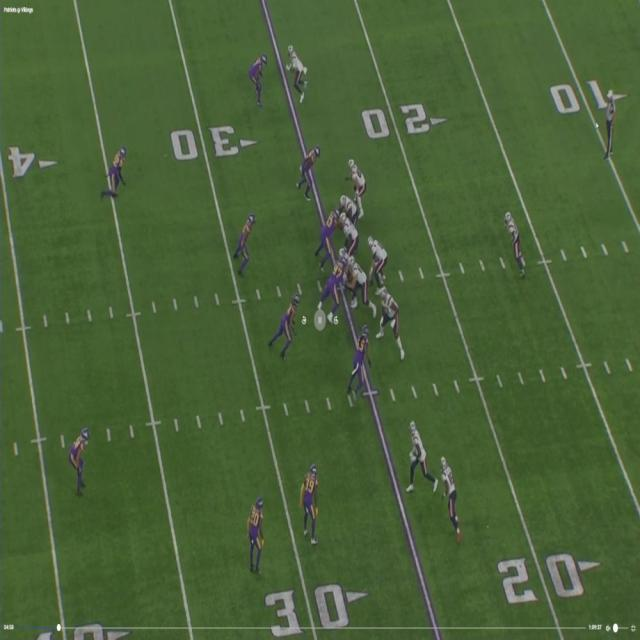db: (302, 464, 318, 545), (251, 495, 267, 570), (70, 430, 88, 495), (108, 145, 126, 195), (250, 53, 267, 104)
lb: (277, 293, 300, 355), (241, 212, 258, 270)
qb: (371, 235, 389, 285)
skill: (406, 422, 429, 490), (443, 457, 461, 530), (288, 44, 307, 99), (505, 211, 521, 274), (349, 159, 368, 203)
